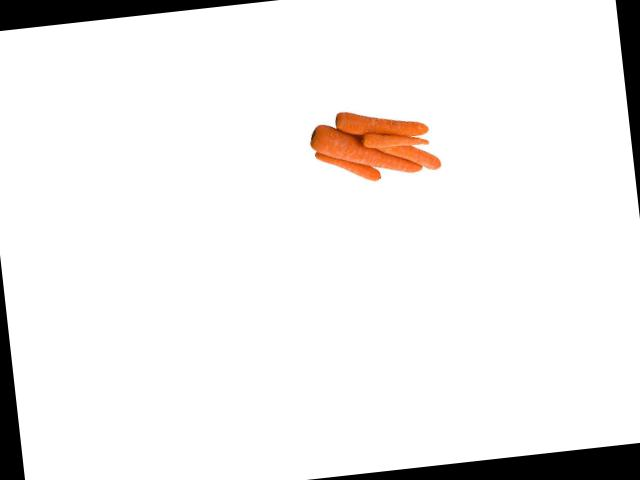carrot: (330, 106, 432, 140)
